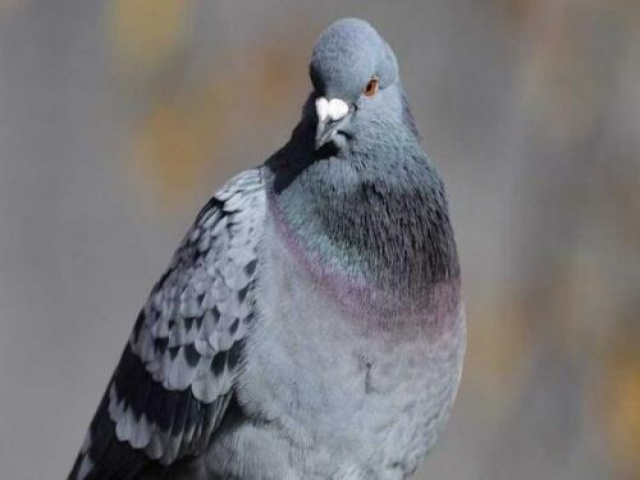Pigeon: (61, 16, 471, 479)
